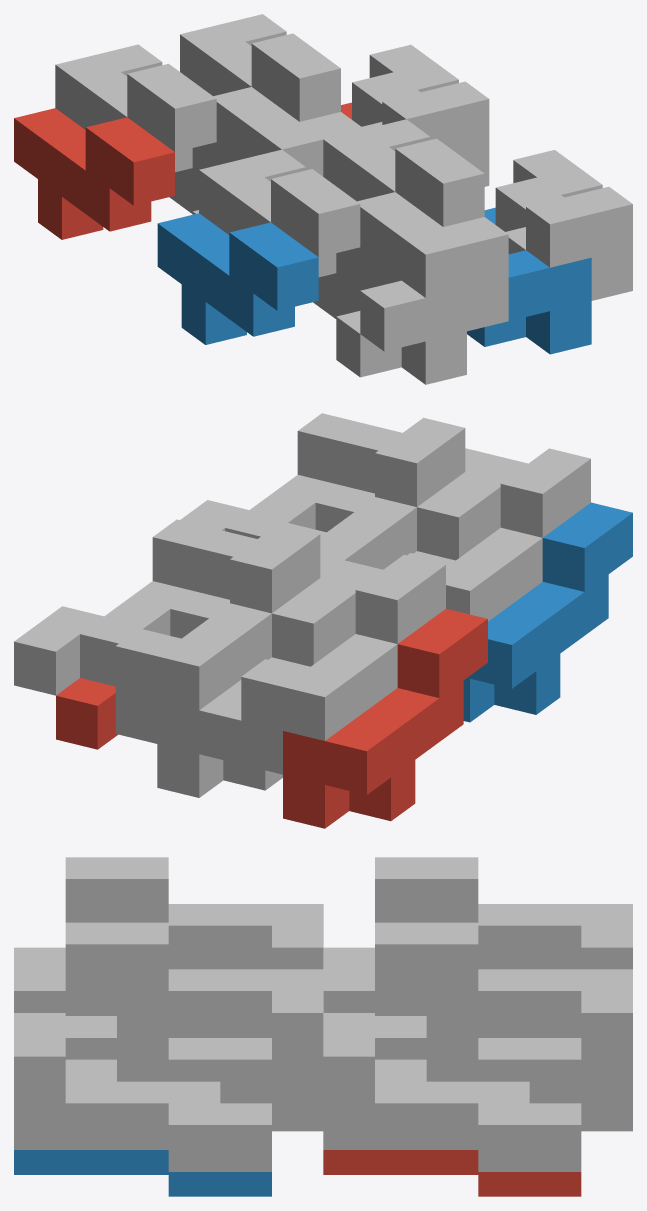
Rendered from tiling.obj.
The picture shows the model from 3 angles, top to bottom: view 1: azimuth 30°, elevation 25°; view 2: azimuth 150°, elevation 25°; view 3: azimuth 270°, elevation 25°; orthographic projection. The views are drawn at different scales.
Visible parts, largest first — view 1: copy_1_domain_2, copy_1_domain_1, copy_2_domain_8, copy_1_domain_4, copy_1_domain_3, copy_2_domain_2, copy_1_domain_8, copy_1_domain_7, copy_2_domain_7, copy_2_domain_4, copy_2_domain_6, copy_1_domain_6 (+3 smaller); view 2: copy_1_domain_1, copy_1_domain_3, copy_1_domain_7, copy_1_domain_2, copy_2_domain_7, copy_1_domain_5, copy_1_domain_4, copy_2_domain_8, copy_1_domain_8, copy_1_domain_6, copy_2_domain_5, copy_2_domain_4 (+1 smaller); view 3: copy_1_domain_8, copy_1_domain_7, copy_2_domain_7, copy_2_domain_8, copy_1_domain_4, copy_1_domain_3, copy_2_domain_3, copy_2_domain_4, copy_2_domain_5, copy_2_domain_6, copy_1_domain_5, copy_1_domain_6.
Part boxes in pixels (x1=…): copy_1_domain_2: x1=157, y1=213, x2=318, y2=344; copy_1_domain_1: x1=14, y1=108, x2=174, y2=239; copy_2_domain_8: x1=495, y1=150, x2=632, y2=300; copy_1_domain_4: x1=199, y1=149, x2=360, y2=277; copy_1_domain_3: x1=55, y1=44, x2=216, y2=172; copy_2_domain_2: x1=330, y1=274, x2=466, y2=384; copy_1_domain_8: x1=323, y1=119, x2=484, y2=226; copy_1_domain_7: x1=180, y1=14, x2=340, y2=121; copy_2_domain_7: x1=352, y1=44, x2=489, y2=186; copy_2_domain_4: x1=377, y1=217, x2=508, y2=331; copy_2_domain_6: x1=467, y1=207, x2=591, y2=354; copy_1_domain_6: x1=313, y1=192, x2=442, y2=314; copy_1_domain_1: x1=283, y1=609, x2=487, y2=828; copy_1_domain_3: x1=241, y1=554, x2=445, y2=774; copy_1_domain_7: x1=115, y1=524, x2=320, y2=743; copy_1_domain_2: x1=463, y1=502, x2=632, y2=722; copy_2_domain_7: x1=14, y1=519, x2=257, y2=695; copy_1_domain_5: x1=157, y1=578, x2=358, y2=797; copy_1_domain_4: x1=407, y1=448, x2=590, y2=621; copy_2_domain_8: x1=180, y1=413, x2=401, y2=538; copy_1_domain_8: x1=282, y1=417, x2=465, y2=569; copy_1_domain_6: x1=414, y1=472, x2=503, y2=562; copy_2_domain_5: x1=56, y1=678, x2=118, y2=749; copy_2_domain_4: x1=465, y1=448, x2=527, y2=480; copy_1_domain_8: x1=65, y1=922, x2=323, y2=1106; copy_1_domain_7: x1=375, y1=922, x2=632, y2=1106; copy_2_domain_7: x1=323, y1=1013, x2=581, y2=1171; copy_2_domain_8: x1=14, y1=1013, x2=271, y2=1171; copy_1_domain_4: x1=65, y1=857, x2=323, y2=969; copy_1_domain_3: x1=375, y1=857, x2=632, y2=969; copy_2_domain_3: x1=323, y1=947, x2=581, y2=1103; copy_2_domain_4: x1=14, y1=947, x2=271, y2=1103; copy_2_domain_5: x1=323, y1=1150, x2=581, y2=1196; copy_2_domain_6: x1=14, y1=1150, x2=271, y2=1196; copy_1_domain_5: x1=375, y1=991, x2=632, y2=1131; copy_1_domain_6: x1=65, y1=991, x2=323, y2=1131.
Size of the model in its own units: 9 by 4 by 12.
